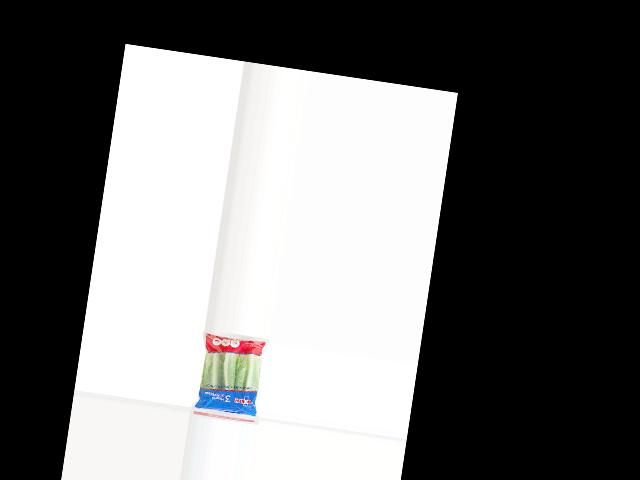lettuce: (193, 329, 267, 418)
